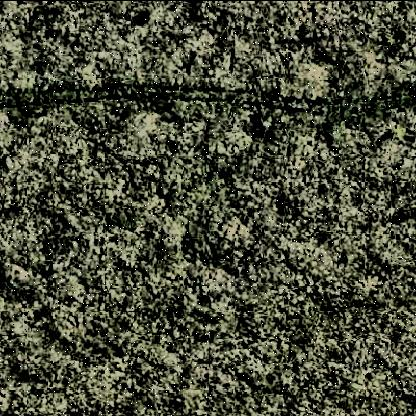tree-top: (388, 126, 405, 142)
